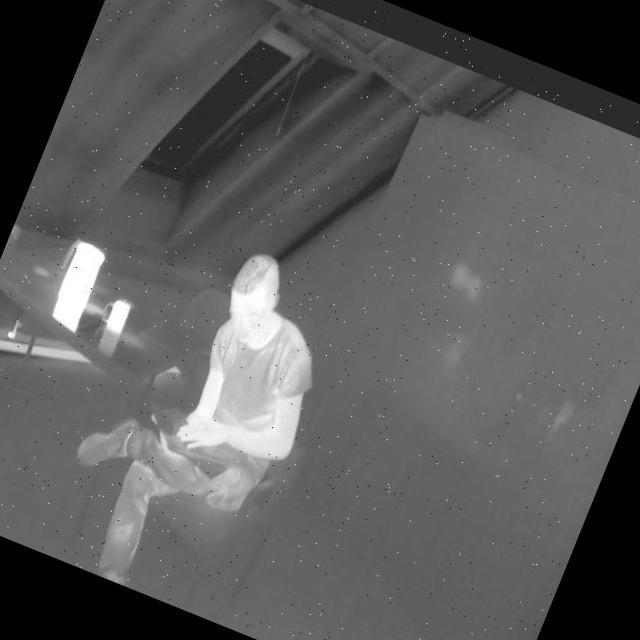person: (88, 239, 357, 626)
